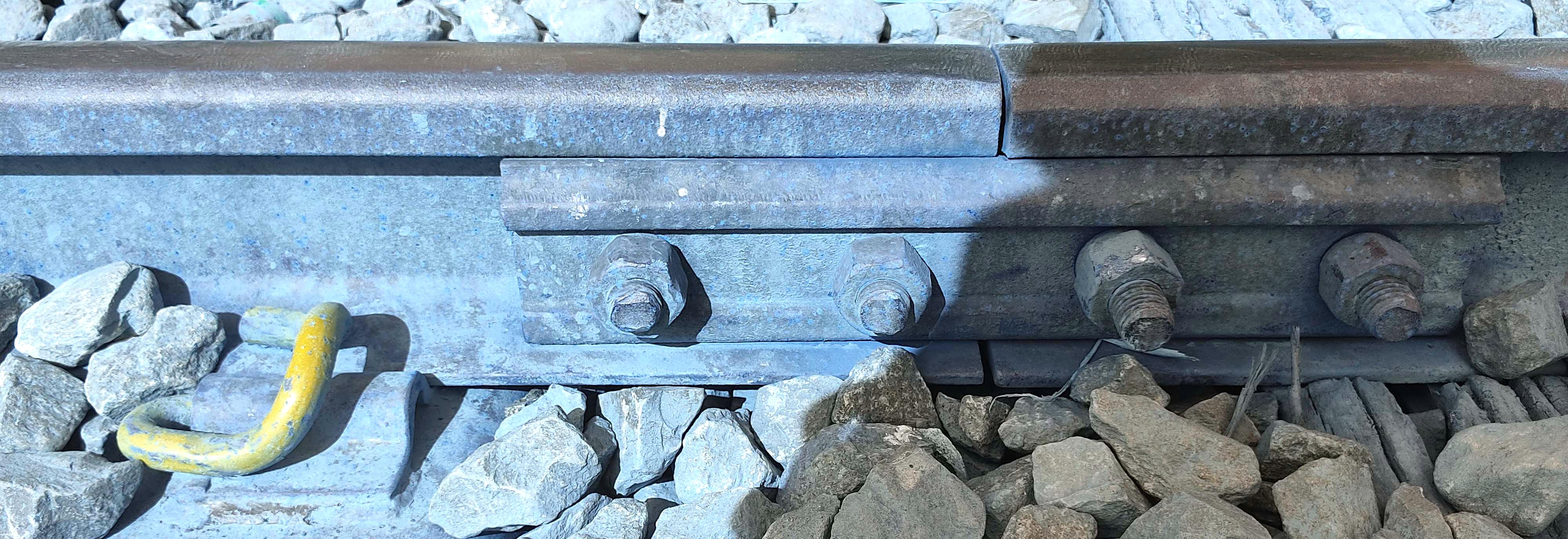Poor contact: (92, 289, 388, 467)
duan lie: (971, 33, 1064, 177)
